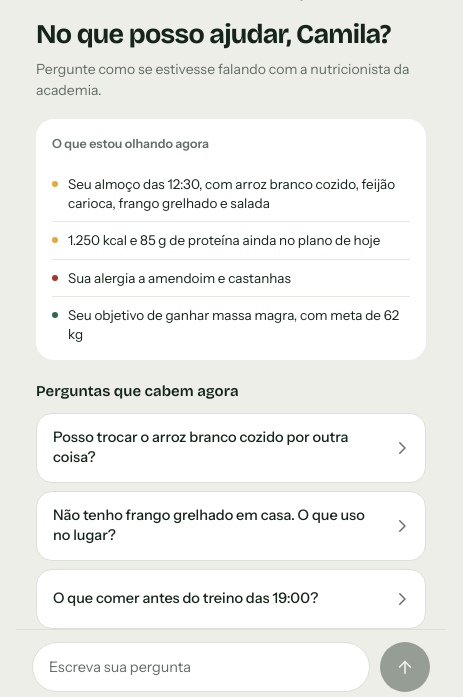
Test: Chat do Nutri (S14) › 429 avisa quanto esperar
The image size is (463, 697).
(page scrolled)
Type "Oi" into the field named "Escreva sua pergunta para o Nutri" at (201, 667), box [32, 642, 370, 692]
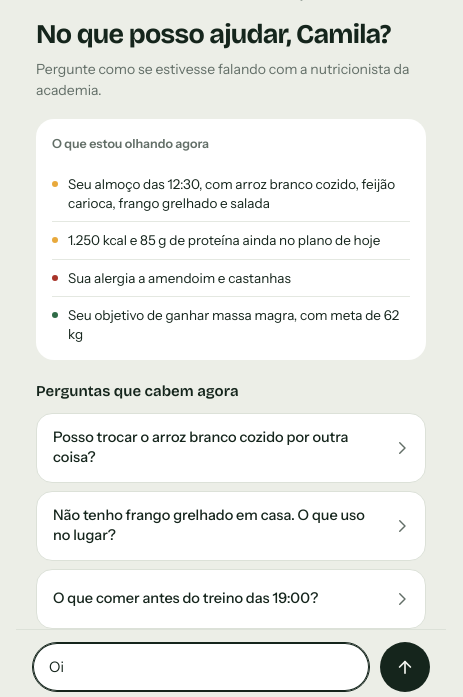
Click the button named "Enviar pergunta" at (405, 667), box [380, 642, 430, 692]
(page scrolled)
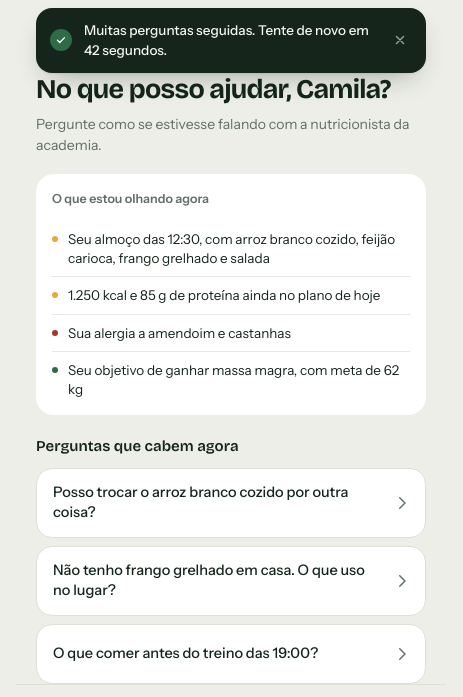
expect the text "Muitas perguntas seguidas. Tente de novo em 42 segundos." is shown: met, box [84, 20, 372, 60]
